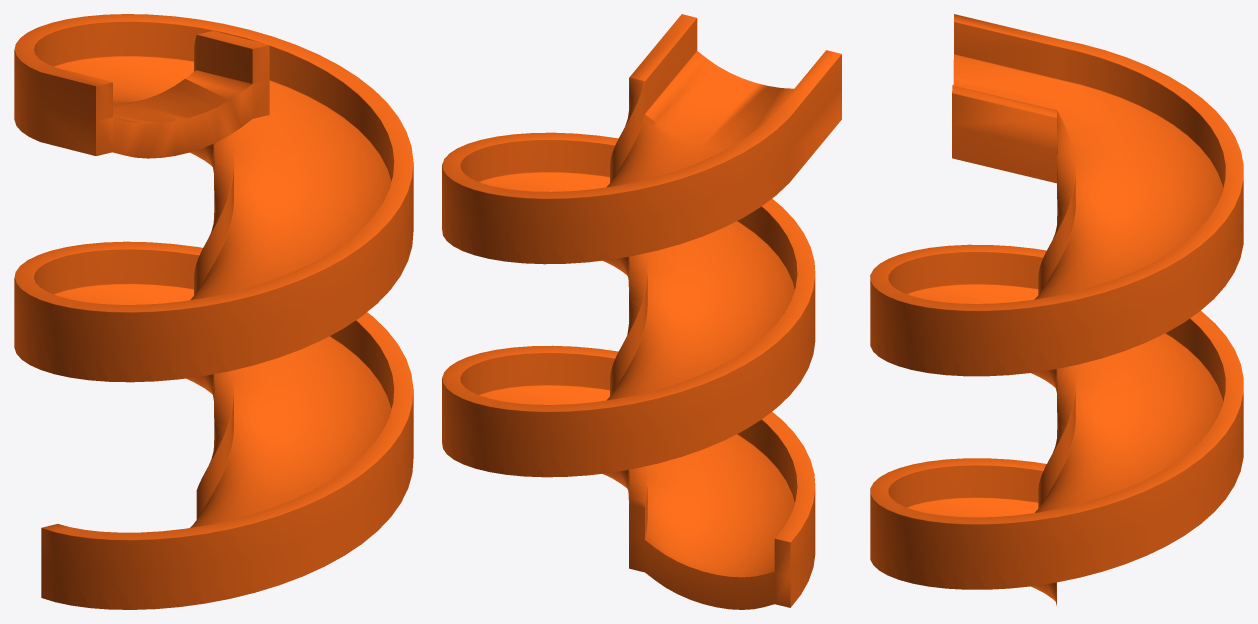
The model's file is tobogan2.fbx.
3 views of the same model, side by side, from view 1: azimuth 30°, elevation 25°; view 2: azimuth 150°, elevation 25°; view 3: azimuth 270°, elevation 25° (orthographic). The views are drawn at different scales.
Visible parts, largest first — view 1: Plane; view 2: Plane; view 3: Plane.
Part boxes in pixels (x1=…): Plane: x1=14, y1=14, x2=413, y2=609; Plane: x1=442, y1=14, x2=841, y2=609; Plane: x1=870, y1=14, x2=1243, y2=605.
Size of the model in its own units: 401 by 632 by 400.
